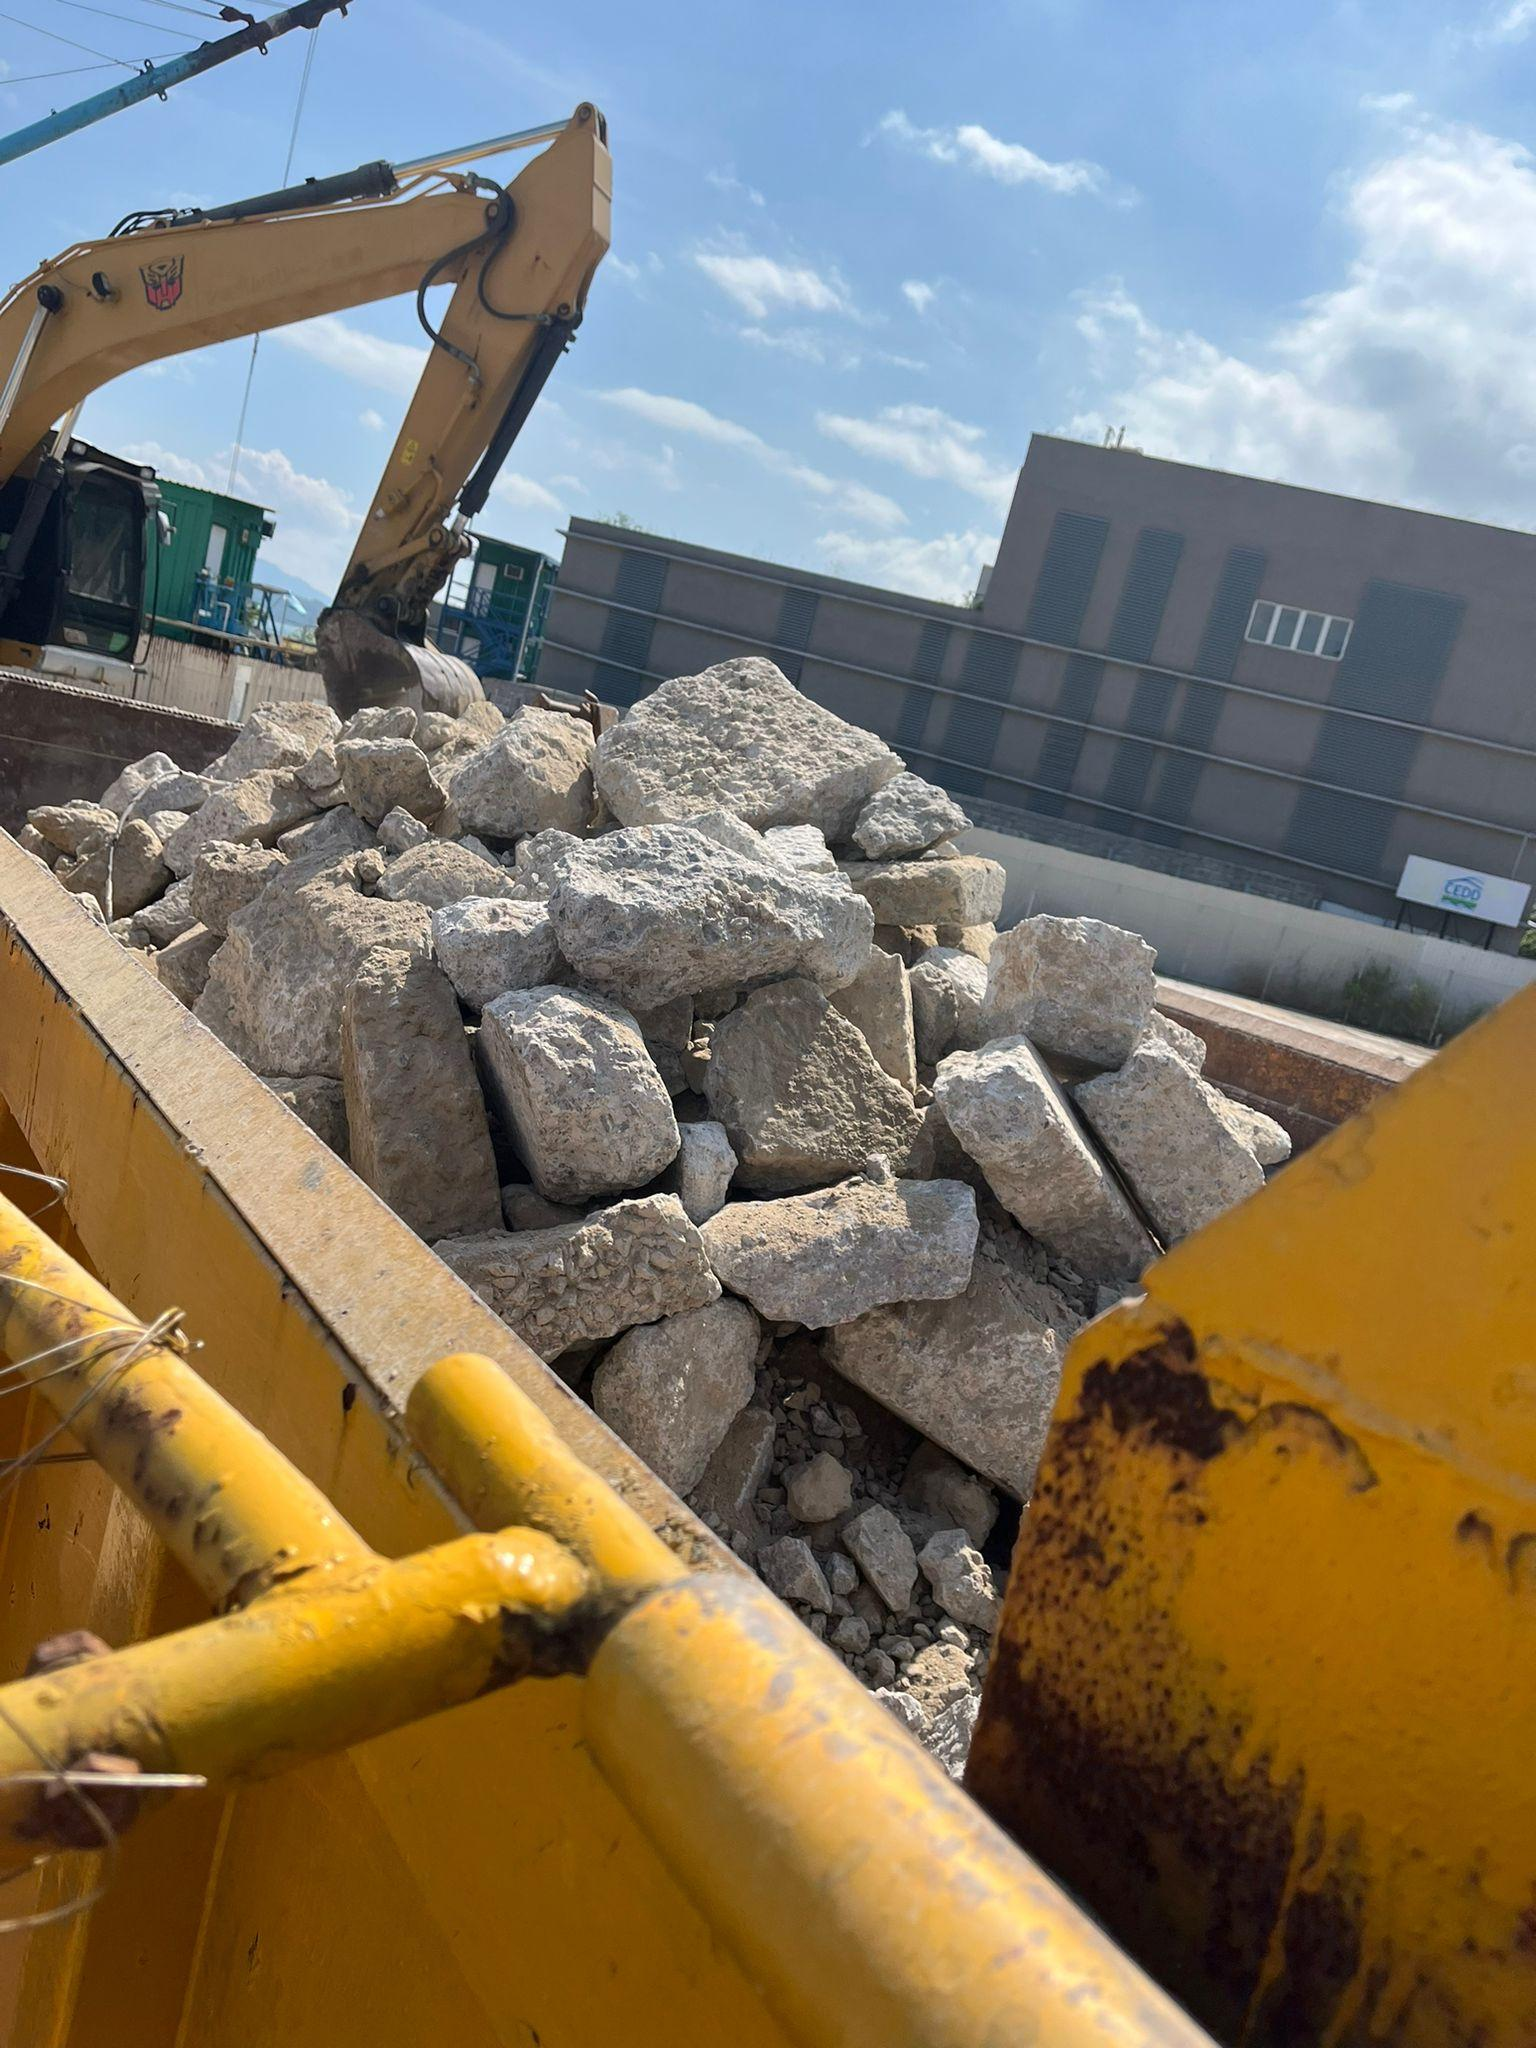dry: (37, 637, 1260, 1703)
